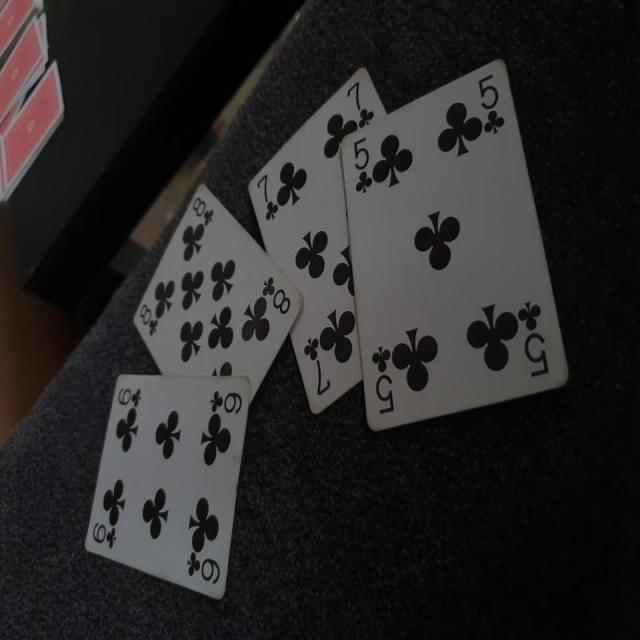5 Trefoils: (340, 58, 572, 434)
6 Trefoils: (84, 372, 251, 602)
7 Trefoils: (245, 66, 388, 421)
8 Trefoils: (131, 183, 303, 404)
